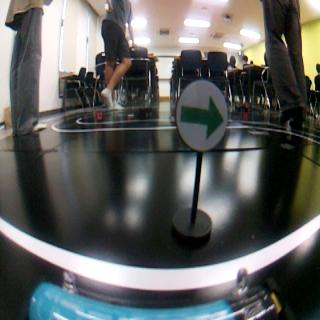right: (173, 81, 230, 151)
